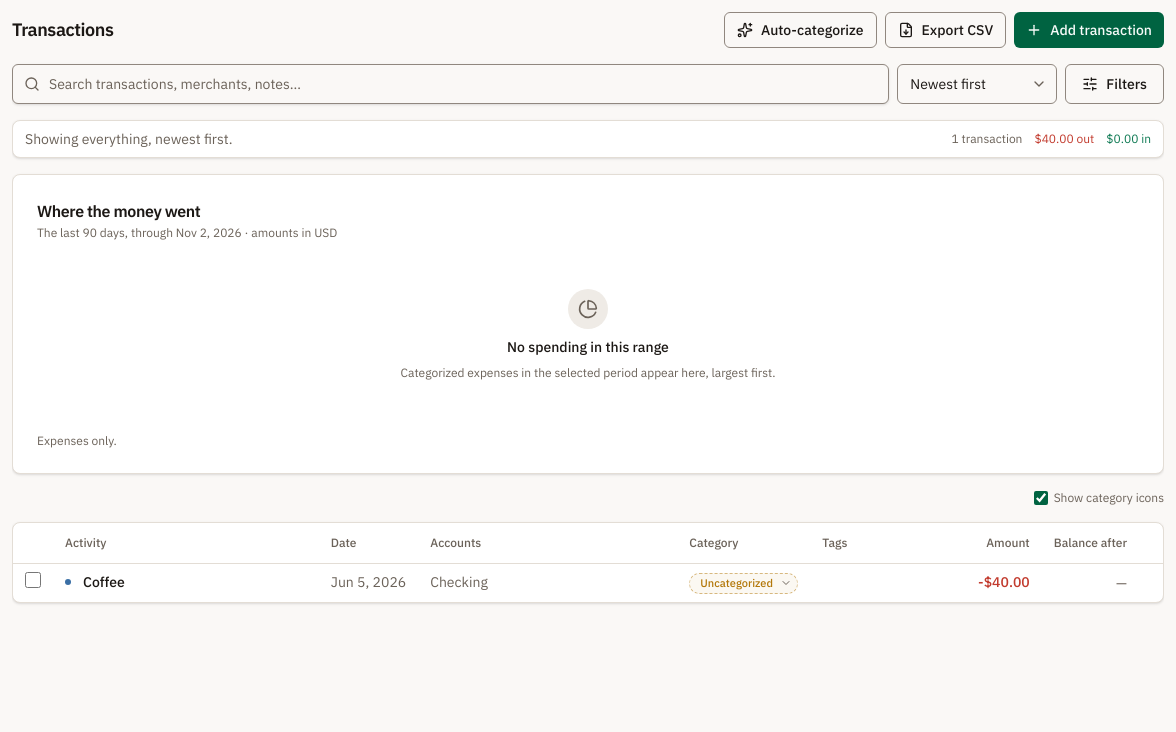
it: TransactionsView › reports when auto-categorize finds nothing to do (5n4.1)
Expected: the text "Coffee" is shown, [83,572,125,592]
Click the button "Auto-categorize": (800, 30) [724,12,876,48]
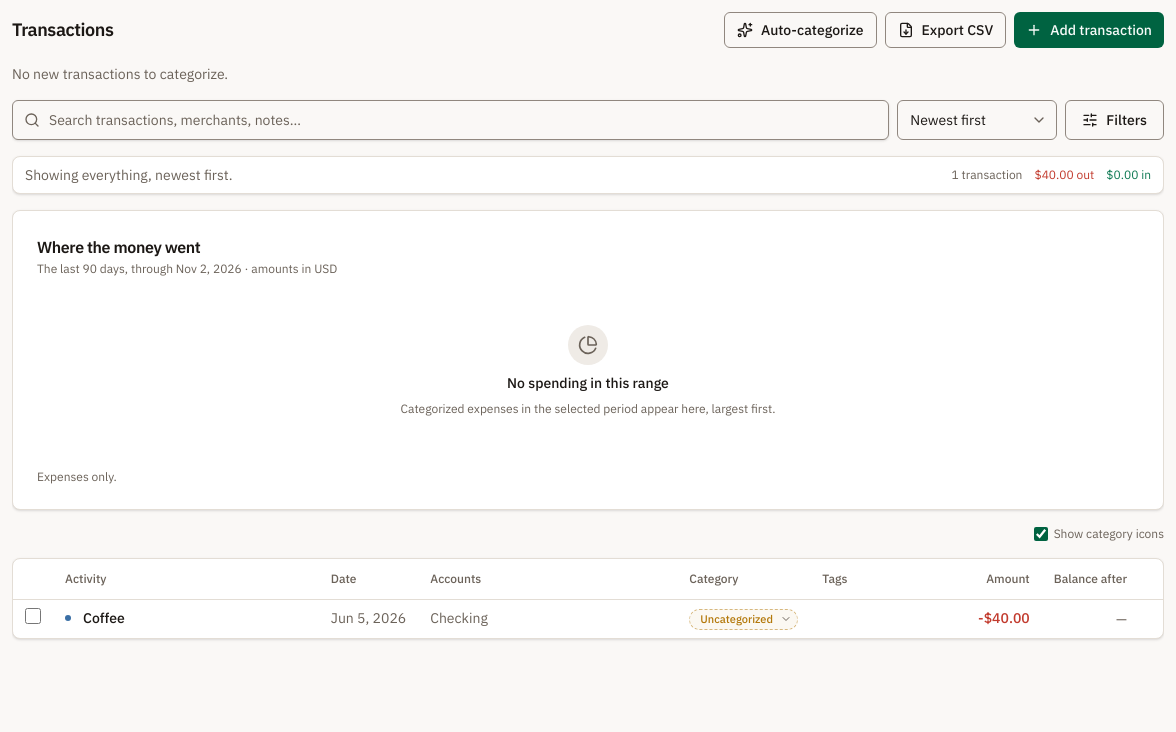
Result: the text "No new transactions to categorize." is shown at [12,65,228,83]
